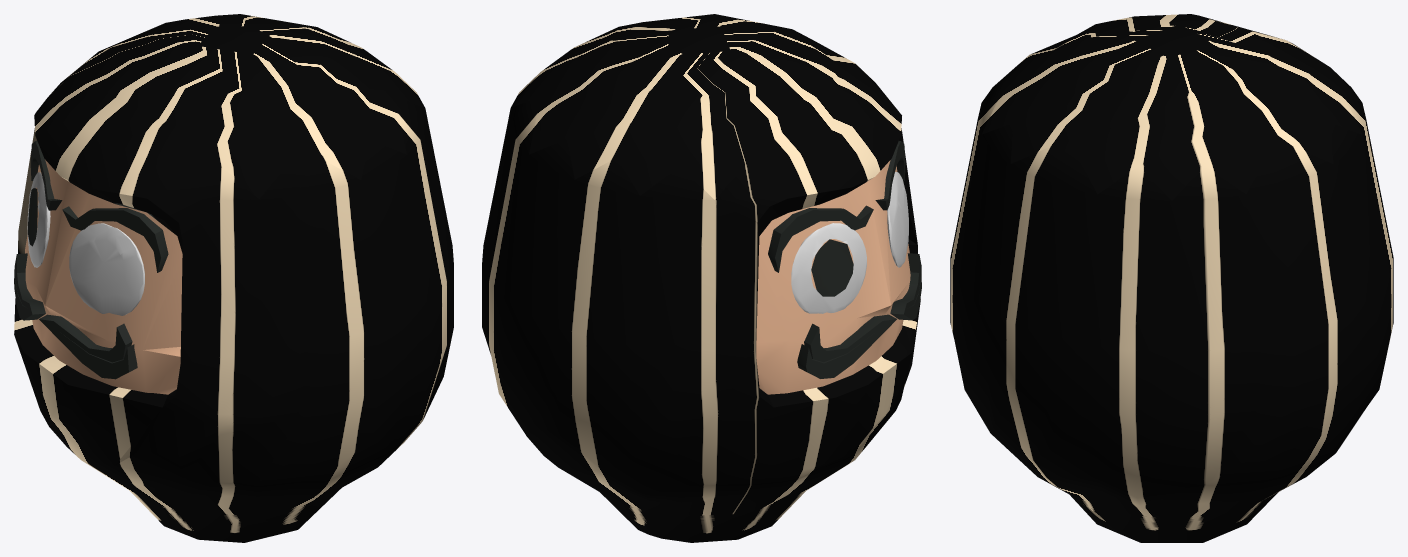
Rendered from daruma-lite.glb.
The picture shows the model from 3 angles, left to right: view 1: azimuth 30°, elevation 25°; view 2: azimuth 150°, elevation 25°; view 3: azimuth 270°, elevation 25°; orthographic projection.
Visible parts, largest first — view 1: Cylinder; view 2: Cylinder; view 3: Cylinder.
Boxes of the visible parts, x1=… form: Cylinder: x1=14, y1=14, x2=453, y2=542; Cylinder: x1=482, y1=14, x2=921, y2=542; Cylinder: x1=950, y1=14, x2=1393, y2=542.
Bounding box in the file's own units: 2.67 × 3.07 × 2.62.
Materials: 4 (1 with a texture image).
